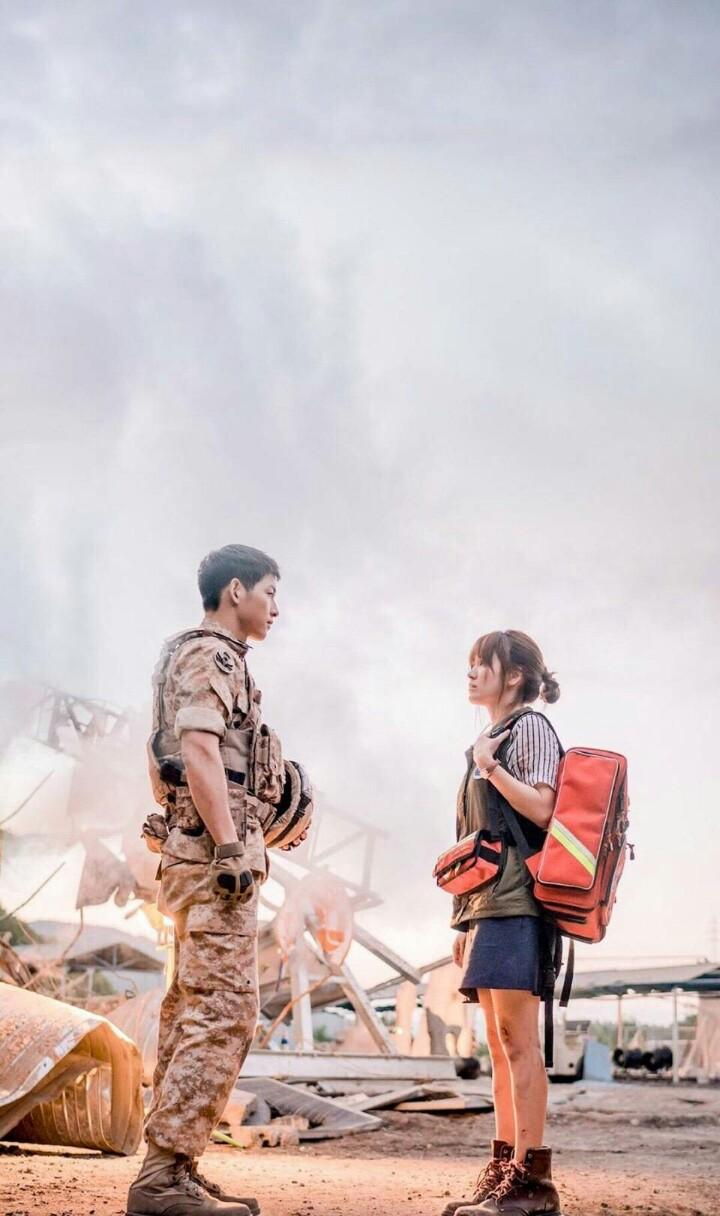up: (98, 536, 326, 1216), (426, 614, 581, 1216)
